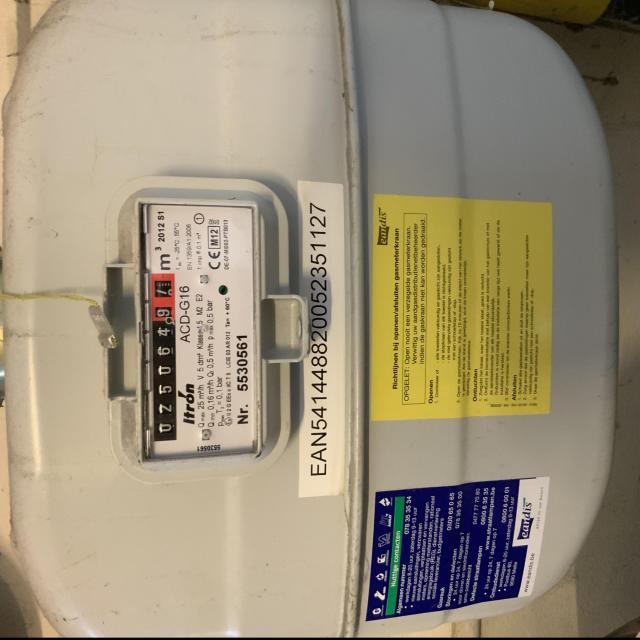gaz_meter: (138, 200, 260, 454)
indication: (149, 272, 177, 444)
